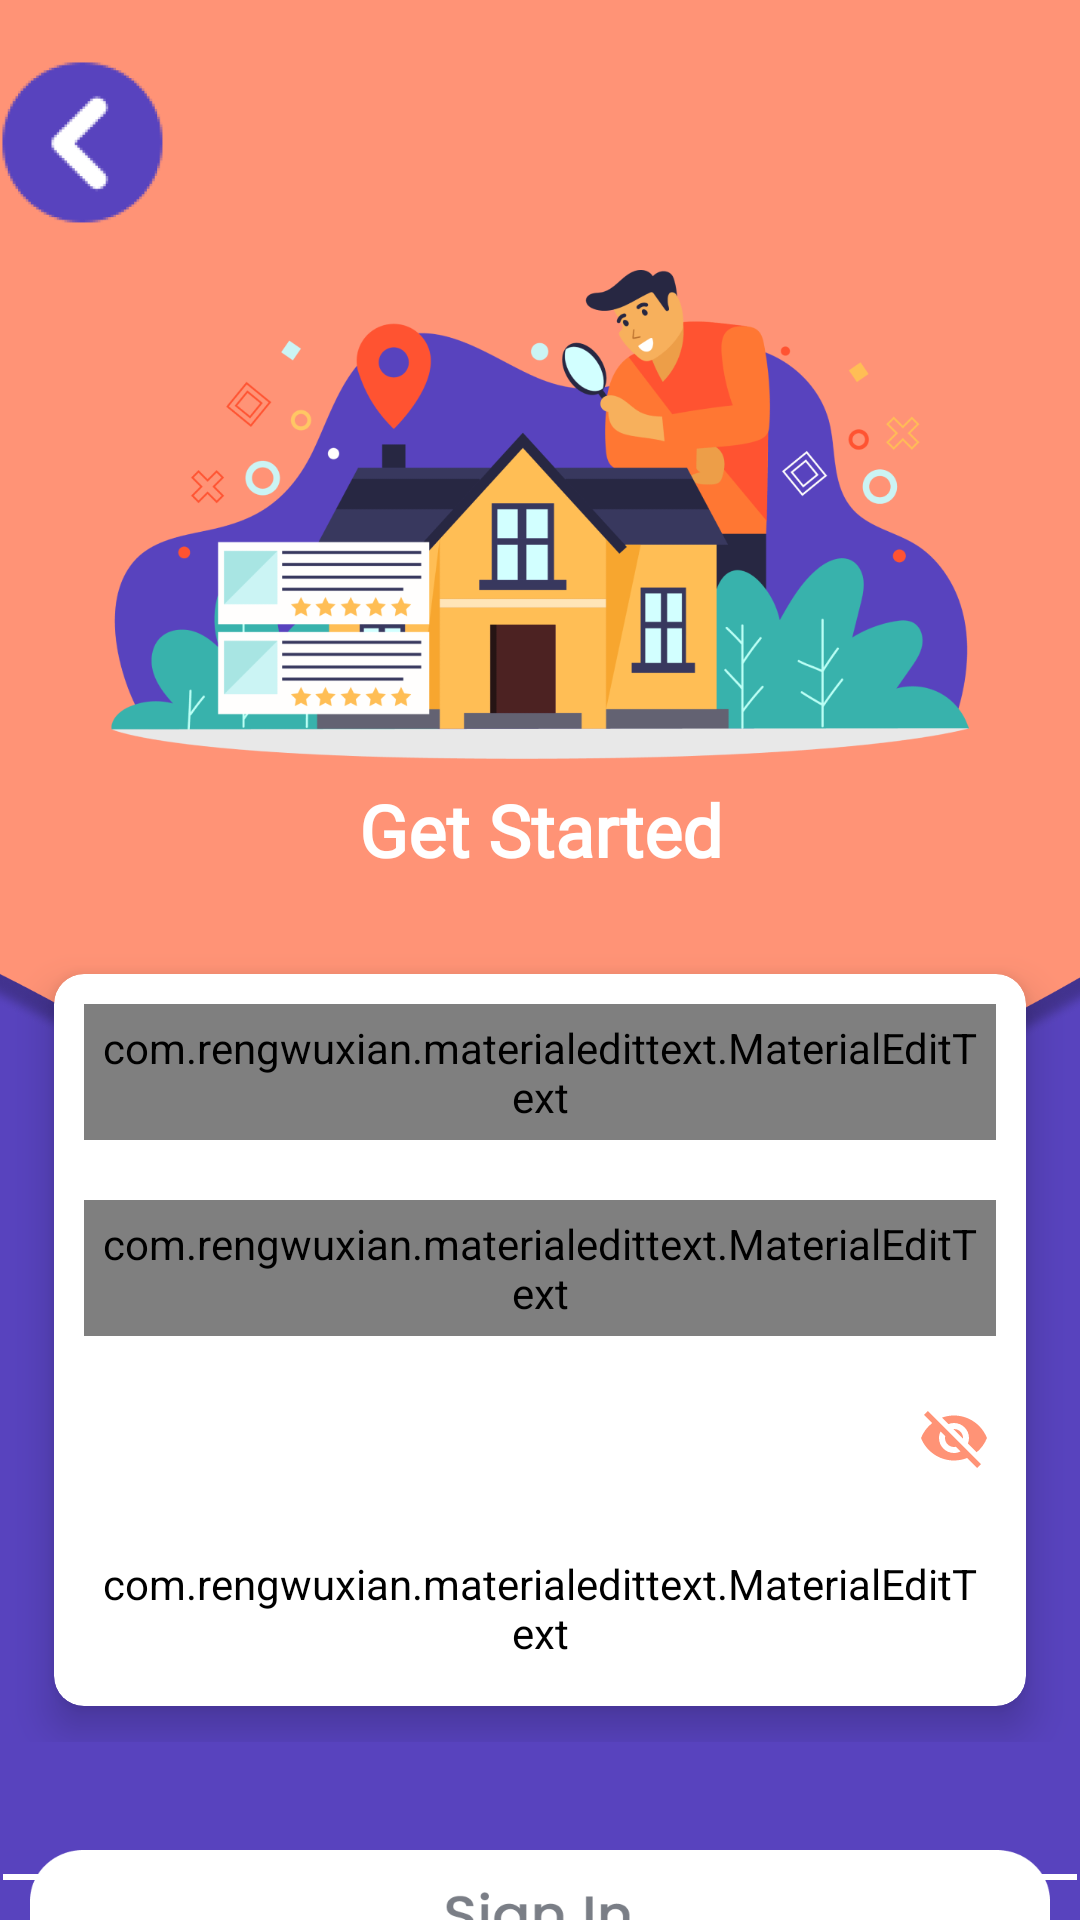

Point at icon controls on the screen. Image size 1080 × 1920, points as point (x, y).
btnback: point (82, 142)
